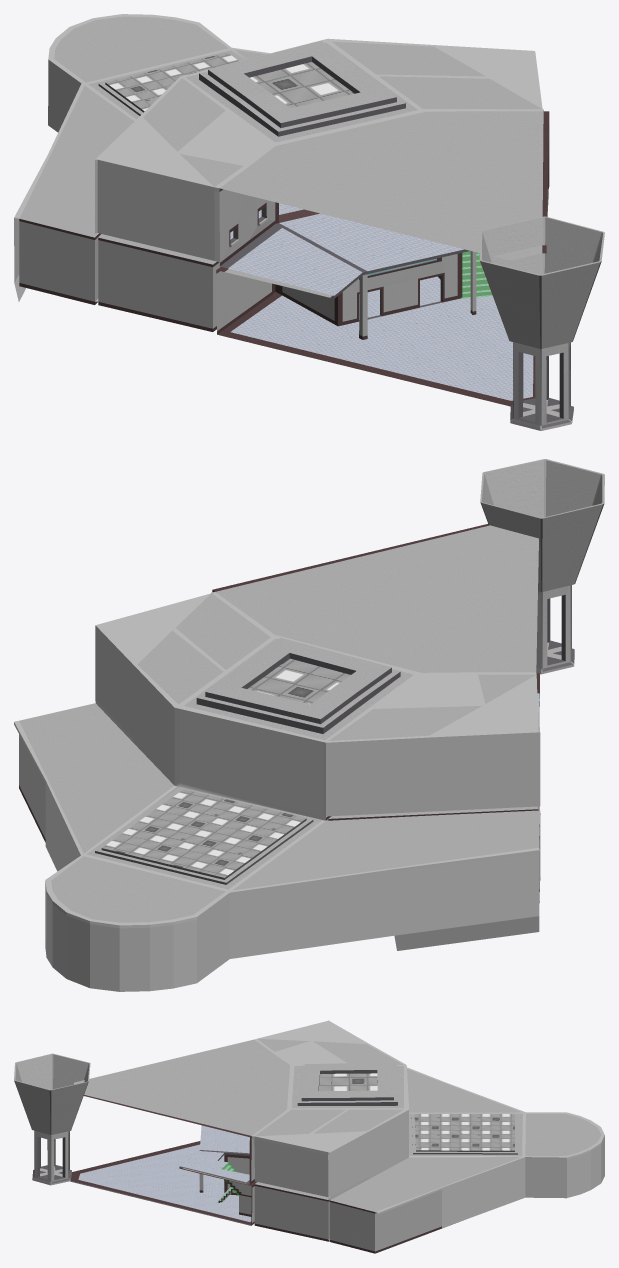
The model's file is adding airlock to mall.fbx.
3 renders of one model, top to bottom at view 1: azimuth 30°, elevation 25°; view 2: azimuth 150°, elevation 25°; view 3: azimuth 270°, elevation 25°, orthographic. The views are drawn at different scales.
Visible parts, largest first — view 1: Cylinder.006, Cylinder.013, Cylinder.005, Cylinder.002; view 2: Cylinder.006, Cylinder.013; view 3: Cylinder.006, Cylinder.013.
Boxes of the visible parts, x1,y1,x2,y2 form: Cylinder.006: (14, 14, 549, 406); Cylinder.013: (479, 216, 604, 430); Cylinder.005: (462, 251, 492, 297); Cylinder.002: (461, 251, 492, 298); Cylinder.006: (14, 524, 540, 991); Cylinder.013: (480, 459, 604, 674); Cylinder.006: (70, 1020, 604, 1253); Cylinder.013: (14, 1053, 90, 1185).
Size of the model in its own units: 356 by 121 by 566.
